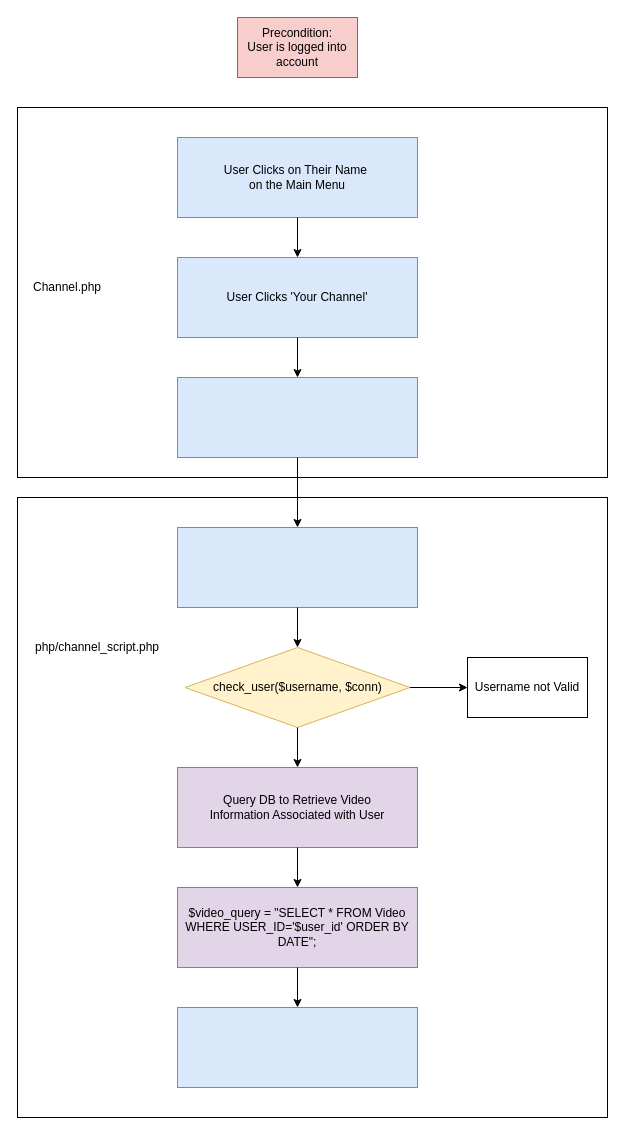
This 625x1135 diagram has some shape labels left out. Each missing label, with the centre of its shape:
Display User's Videos with Information: the point at 297,1047
Get Variables ($user, $conn): the point at 297,567
User Clicks 'Uploads' Button: the point at 297,417
